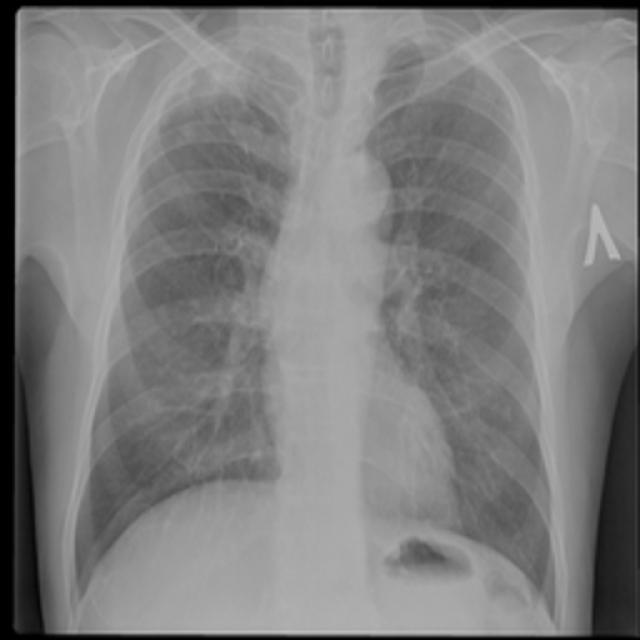diaphragm: (72, 478, 560, 634)
heart: (264, 148, 464, 540)
left_lobe: (364, 38, 561, 628)
right_lobe: (69, 46, 308, 620)
